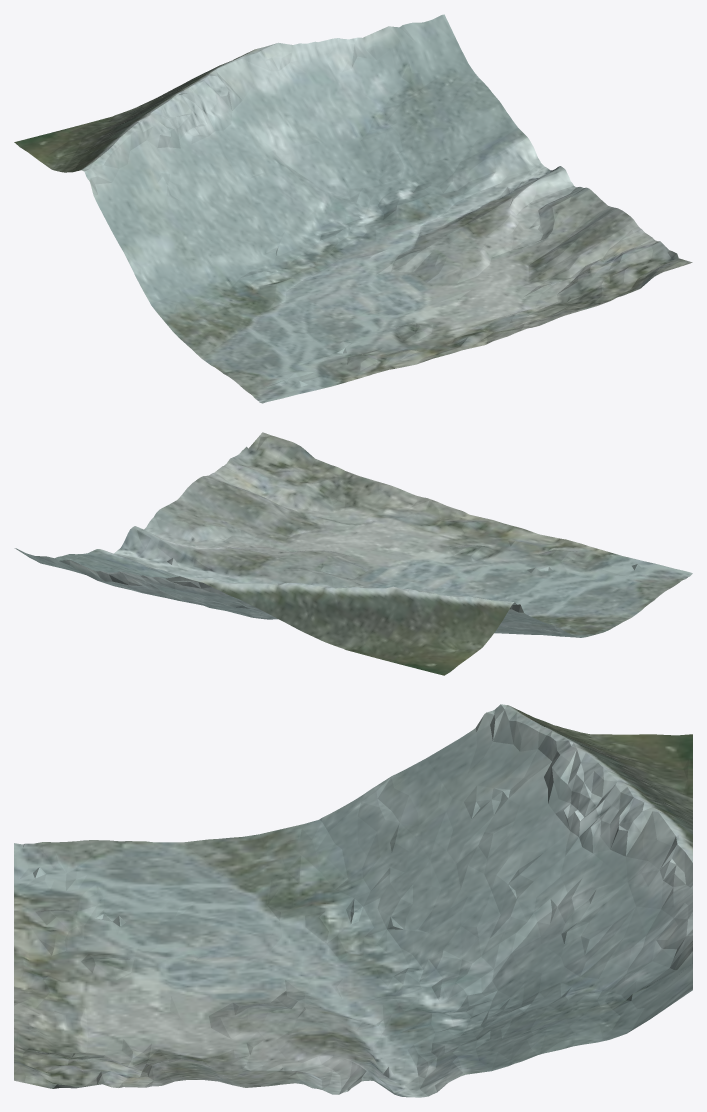
3 views of the same model, one above another, from view 1: azimuth 30°, elevation 25°; view 2: azimuth 150°, elevation 25°; view 3: azimuth 270°, elevation 25° (orthographic). The views are drawn at different scales.
Visible parts, largest first — view 1: Plane; view 2: Plane; view 3: Plane.
Boxes of the visible parts, x1,y1,x2,y2 form: Plane: [14, 14, 692, 403]; Plane: [14, 432, 692, 675]; Plane: [14, 704, 692, 1097].
Bounding box in the file's own units: 0.6 × 0.1558 × 0.6.
1 material, 1 textured.
